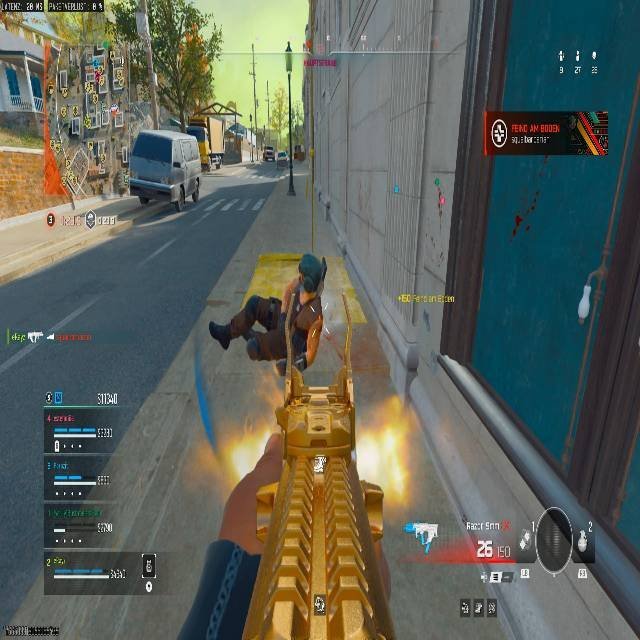head: (296, 252, 325, 289)
